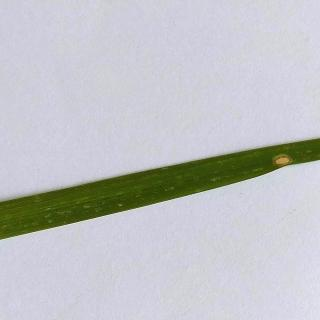Blast: (256, 142, 306, 184)
